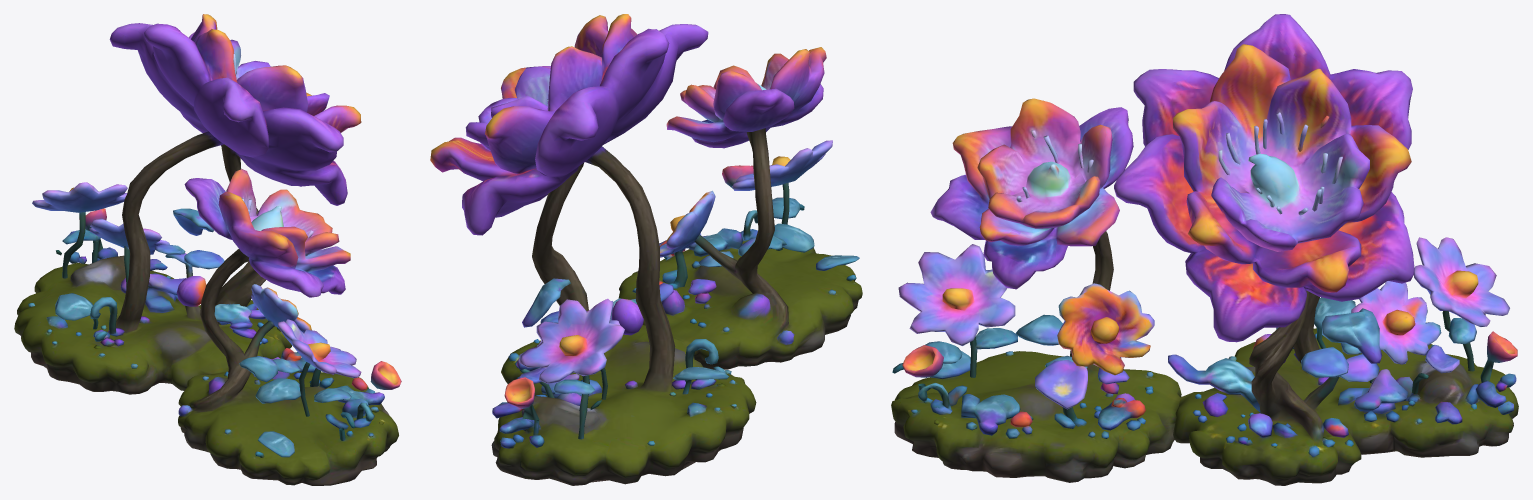
File: flower_small.glb
3 views of the same model, side by side, from view 1: azimuth 30°, elevation 25°; view 2: azimuth 150°, elevation 25°; view 3: azimuth 270°, elevation 25° (orthographic). The views are drawn at different scales.
Parts seen in each view (by area): view 1: tripo_node_e7b8c3eb-be08-4686-a14f-5ec71bcc6d18; view 2: tripo_node_e7b8c3eb-be08-4686-a14f-5ec71bcc6d18; view 3: tripo_node_e7b8c3eb-be08-4686-a14f-5ec71bcc6d18.
Part boxes in pixels (x1=…): tripo_node_e7b8c3eb-be08-4686-a14f-5ec71bcc6d18: x1=14, y1=14, x2=401, y2=485; tripo_node_e7b8c3eb-be08-4686-a14f-5ec71bcc6d18: x1=430, y1=14, x2=862, y2=485; tripo_node_e7b8c3eb-be08-4686-a14f-5ec71bcc6d18: x1=891, y1=14, x2=1518, y2=485.
Bounding box in the file's own units: 0.6066 × 0.7065 × 0.998.
Materials: 1 (1 with a texture image).
